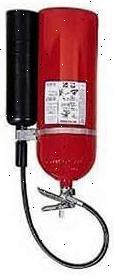Fire Extinguisher: (3, 0, 114, 272)
